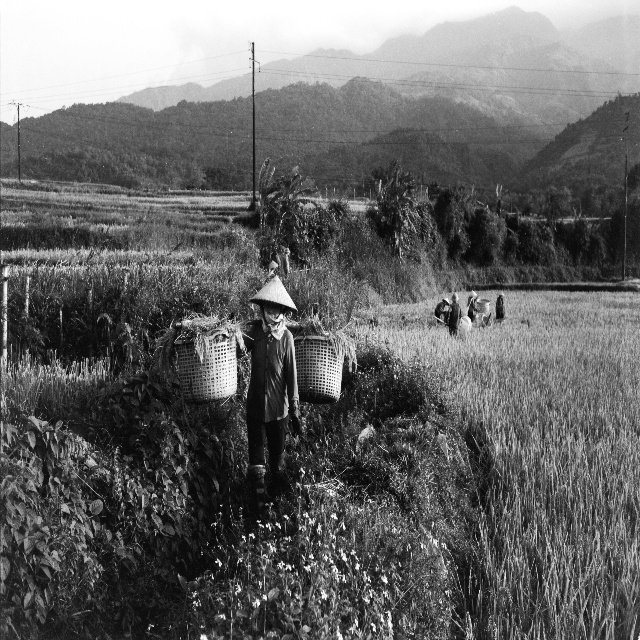Guantes: (291, 415, 301, 437)
